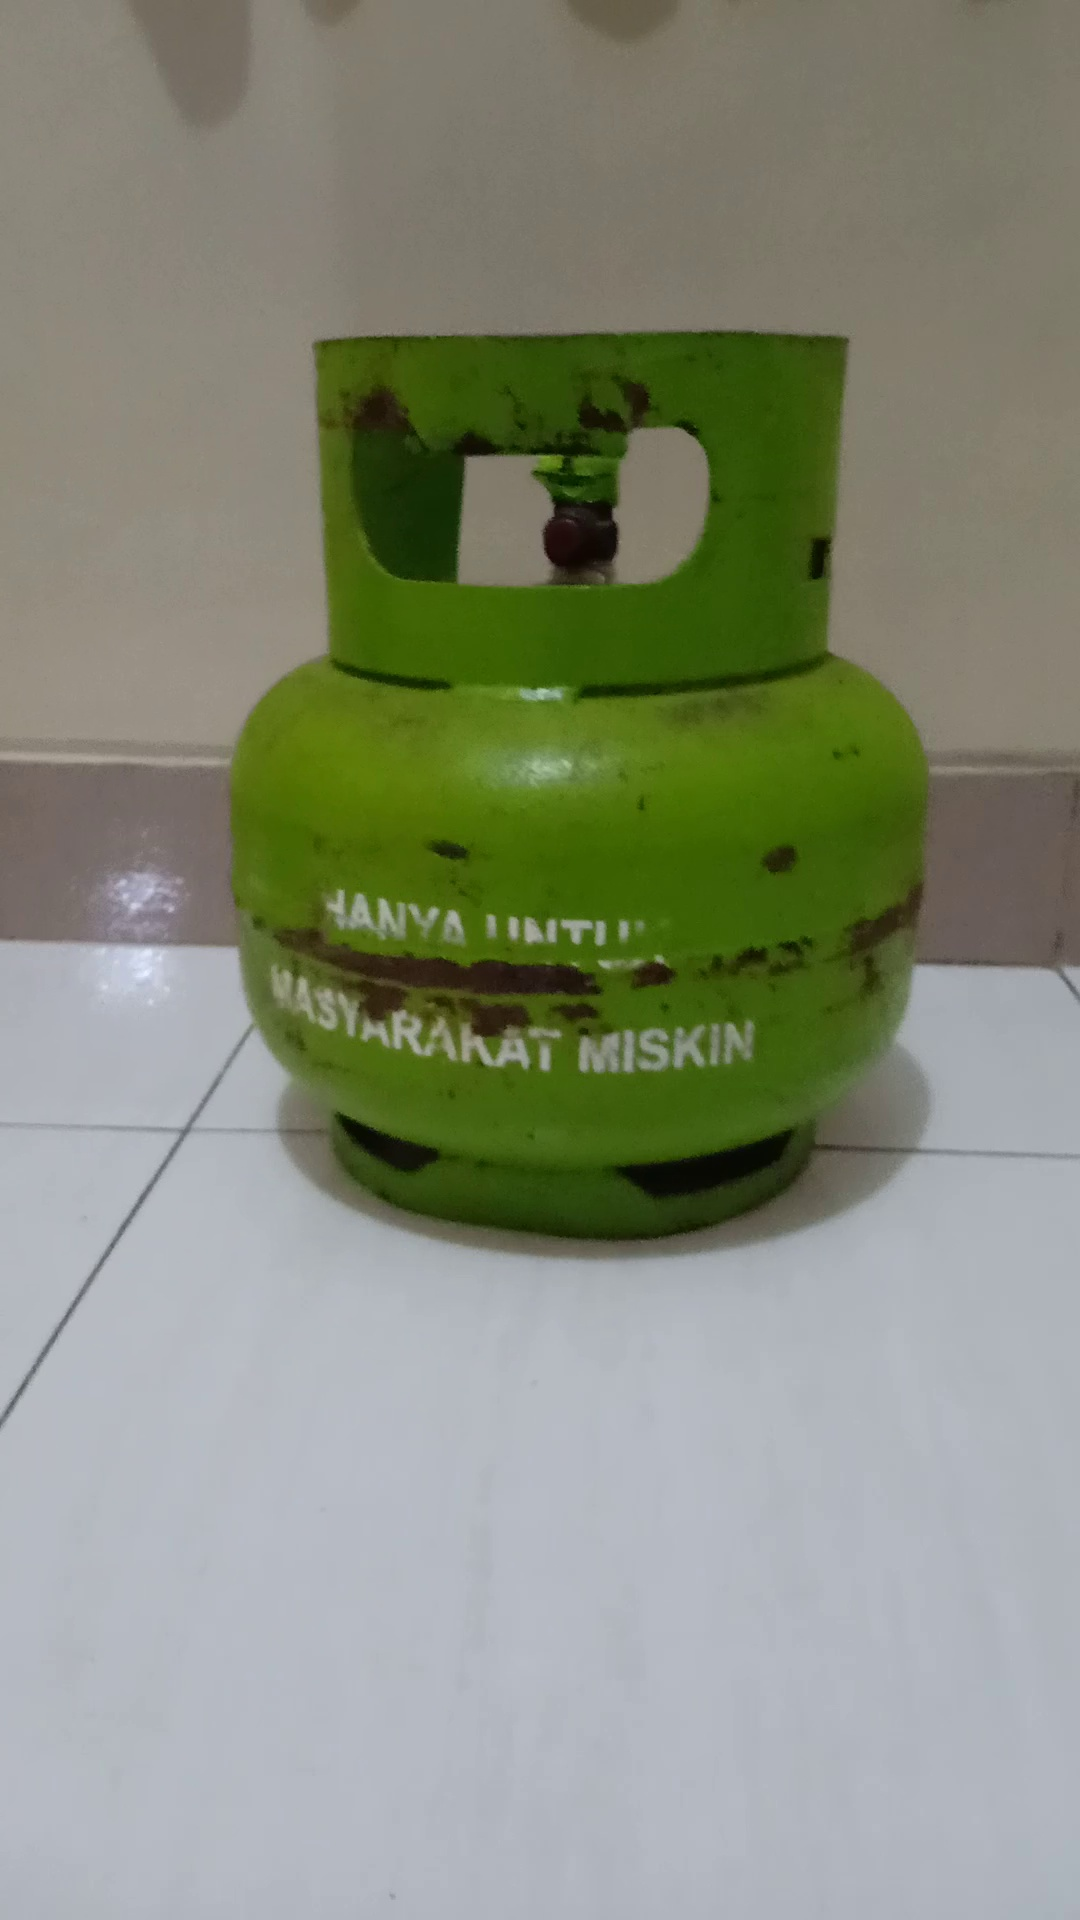gas_ijo: (225, 328, 938, 1244)
